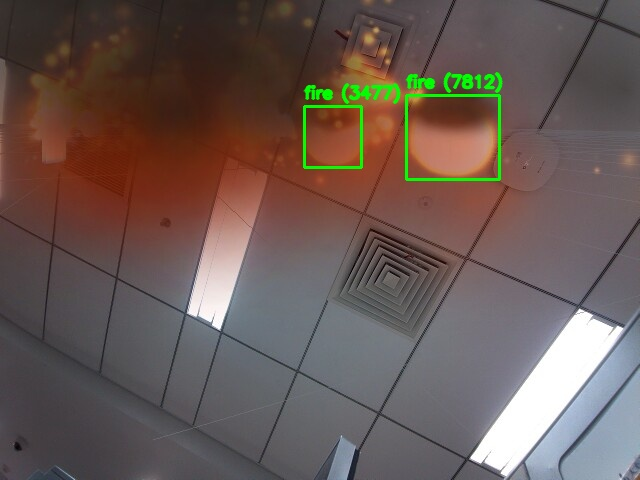fire: (406, 95, 499, 179), (304, 106, 361, 167)
